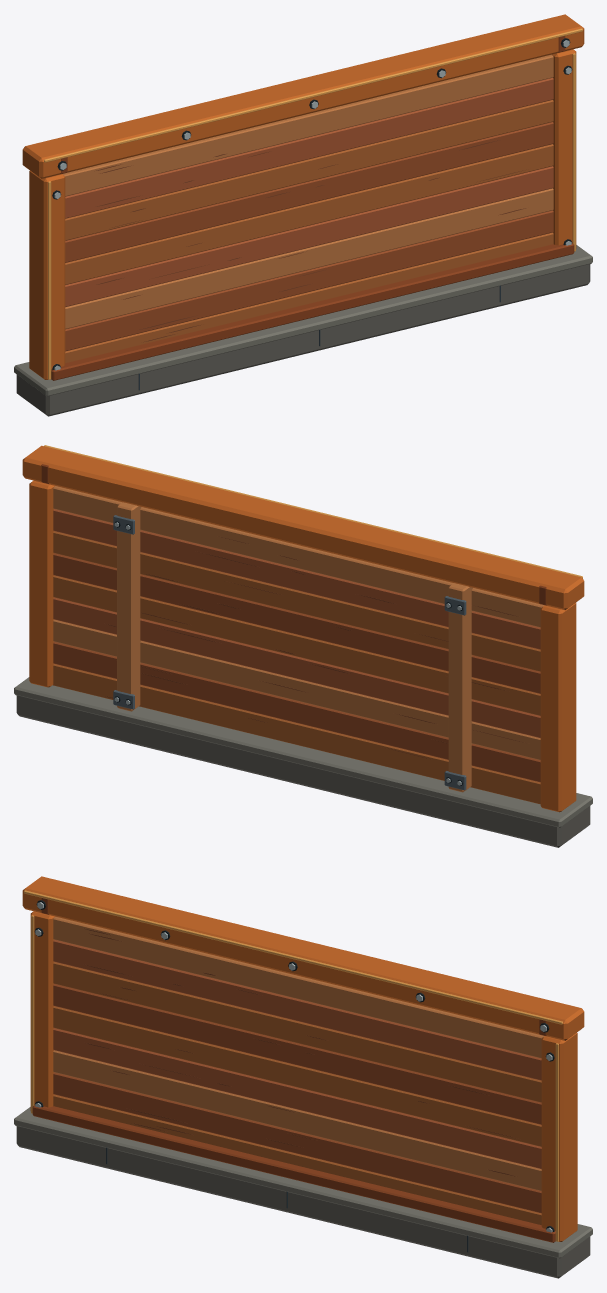
File: wsc-module-017-trophy-wall-backing.glb
3 renders of one model, top to bottom at view 1: azimuth 30°, elevation 25°; view 2: azimuth 150°, elevation 25°; view 3: azimuth 330°, elevation 25°, orthographic.
Visible parts, largest first — view 1: wsc-module-017-trophy-wall-backing; view 2: wsc-module-017-trophy-wall-backing; view 3: wsc-module-017-trophy-wall-backing.
Part boxes in pixels (x1,y1,x2,y2): wsc-module-017-trophy-wall-backing: (14,14,592,416); wsc-module-017-trophy-wall-backing: (14,445,592,847); wsc-module-017-trophy-wall-backing: (14,876,592,1278).
Size of the model in its own units: 8.16 by 3.62 by 0.865.
